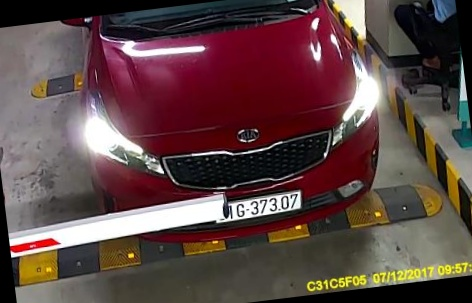plate: (216, 193, 301, 230)
